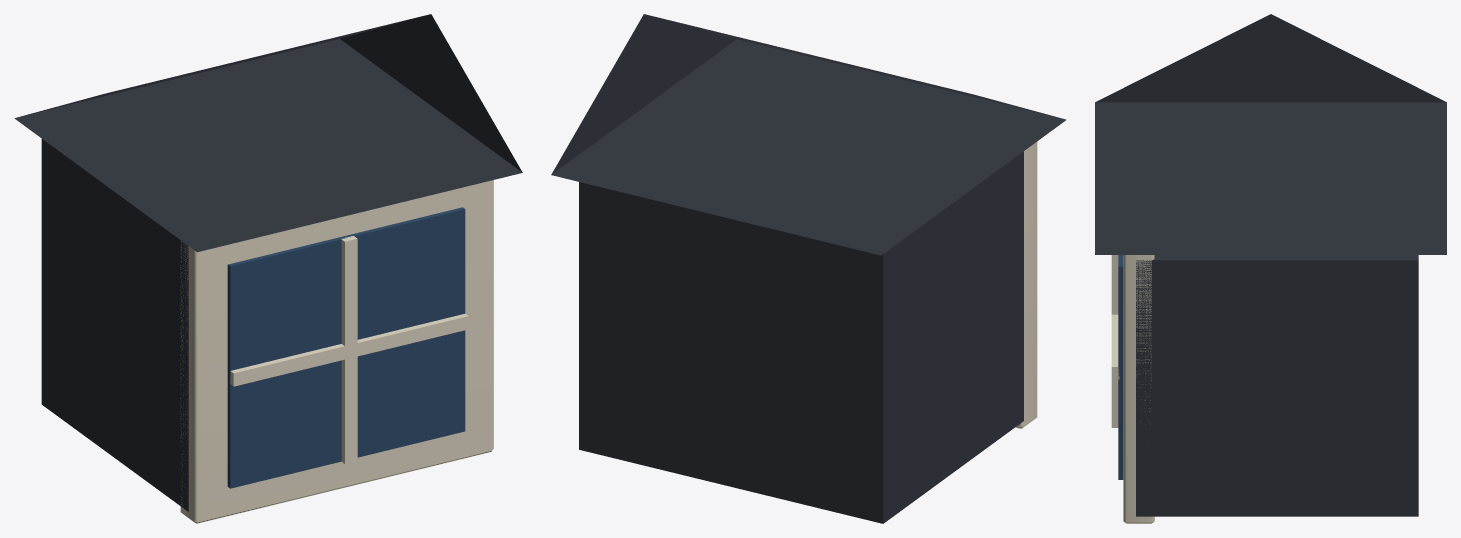
Rendered from roof-dormer.glb.
3 renders of one model, left to right at view 1: azimuth 30°, elevation 25°; view 2: azimuth 150°, elevation 25°; view 3: azimuth 270°, elevation 25°, orthographic. The views are drawn at different scales.
Parts seen in each view (by area): view 1: roof-dormer; view 2: roof-dormer; view 3: roof-dormer.
Part boxes in pixels (x1,y1,x2,y2): roof-dormer: (14, 14, 522, 523); roof-dormer: (551, 14, 1066, 523); roof-dormer: (1095, 14, 1446, 523).
Bounding box in the file's own units: 1.15 × 1.28 × 1.12.
Materials: 1 (1 with a texture image).
